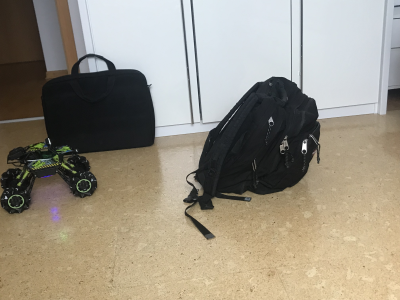remote control car: (1, 135, 97, 214)
